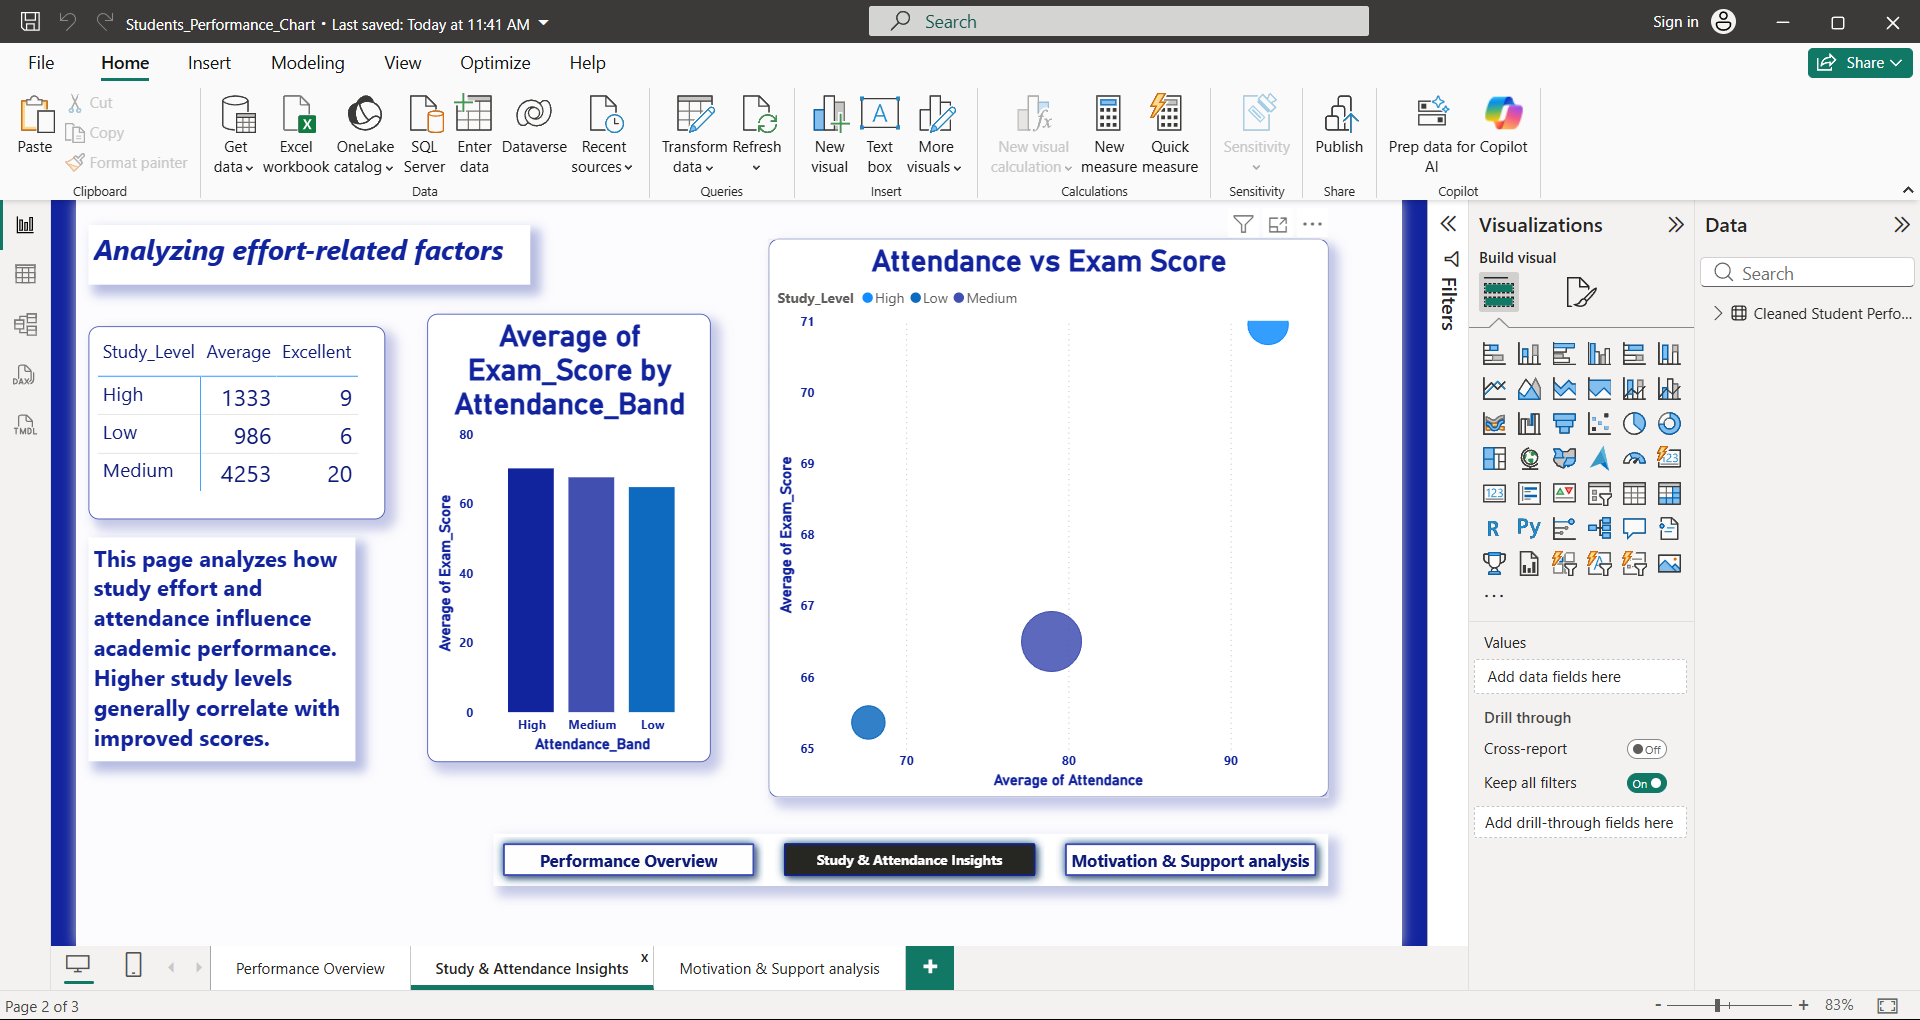

Layout of this report page (visuals, bound fields, positions):
{"tool":"powerbi","page":{"name":"Study & Attendance Insights","canvas":[1280,720],"ordinal":1},"visuals":[{"type":"pivotTable","fields":{"Rows":["Cleaned Student Performance 1.Study_Level"],"Columns":["Cleaned Student Performance 1.Exam_Performance_Level"],"Values":["CountNonNull(Cleaned Student Performance 1.Gender)"]},"box":[12.5,121.2,286.2,186.2],"z":0},{"type":"clusteredColumnChart","fields":{"Category":["Cleaned Student Performance 1.Attendance_Band"],"Y":["Avg(Cleaned Student Performance 1.Exam_Score)"]},"box":[338.8,110,273.8,432.5],"z":1000},{"type":"scatterChart","title":"Attendance vs Exam Score","fields":{"X":["Avg(Cleaned Student Performance 1.Attendance)"],"Y":["Avg(Cleaned Student Performance 1.Exam_Score)"],"Series":["Cleaned Student Performance 1.Study_Level"],"Size":["Sum(Cleaned Student Performance 1.Hours_Studied)"]},"box":[668.4,37.4,540.5,539.3],"z":2000},{"type":"textbox","box":[12.5,23.8,426.2,57.5],"z":3000},{"type":"textbox","box":[12.5,326.2,257.5,216.2],"z":4000},{"type":"pageNavigator","box":[403,611.7,805.9,50.7],"z":4001}]}

Visuals, with their boxes on the page's 1280x720 design canvas (x1, y1, x2, y2). These are canvas units, not pixel positions in the 1920x1020 screenshot, which may show the page scaled, cropped or inside an application window:
pivotTable - Cleaned Student Performance 1.Study_Level x Cleaned Student Performance 1.Exam_Performance_Level: rect(12, 121, 299, 307)
clusteredColumnChart - Cleaned Student Performance 1.Attendance_Band x Avg(Cleaned Student Performance 1.Exam_Score): rect(339, 110, 613, 542)
"Attendance vs Exam Score" scatterChart: rect(668, 37, 1209, 577)
textbox: rect(12, 24, 439, 81)
textbox: rect(12, 326, 270, 542)
pageNavigator: rect(403, 612, 1209, 662)
